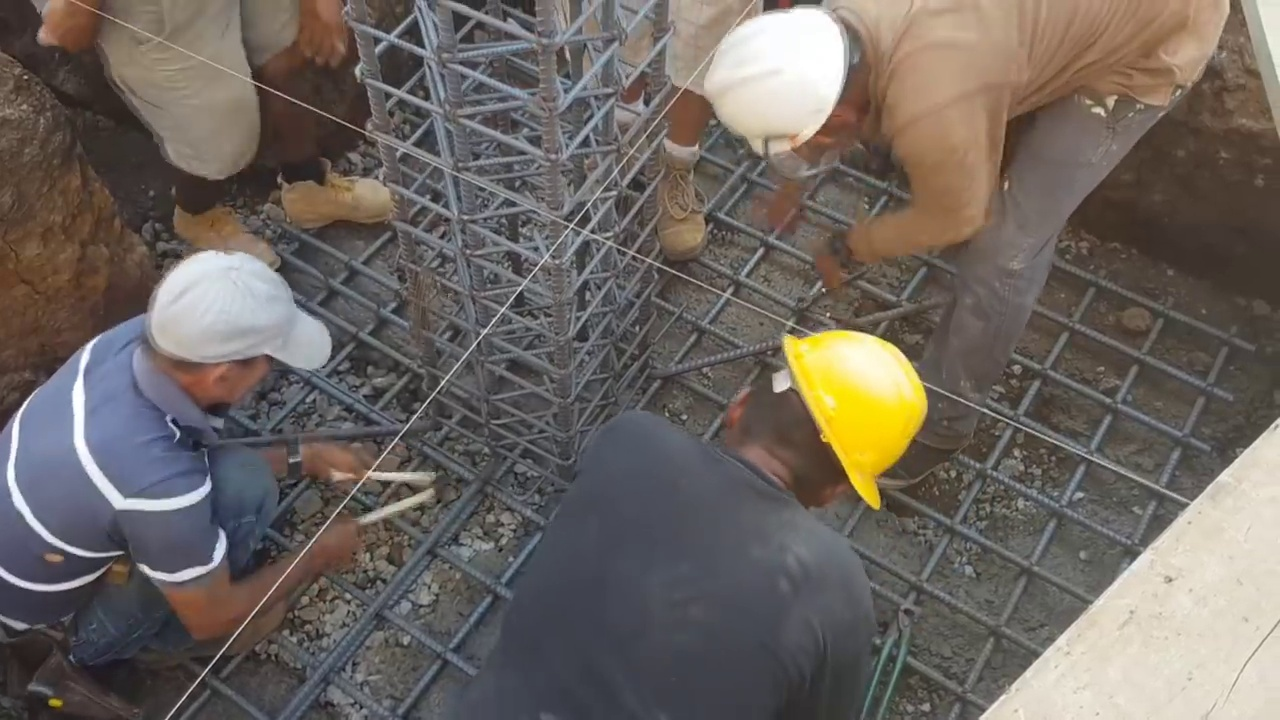helmet: (772, 326, 930, 517), (700, 0, 847, 162)
helmet-off: (143, 252, 332, 416)
helmet-on: (706, 327, 933, 519), (702, 2, 879, 162)
person: (700, 0, 1232, 449), (0, 250, 363, 669), (527, 379, 936, 695), (27, 0, 398, 273)
